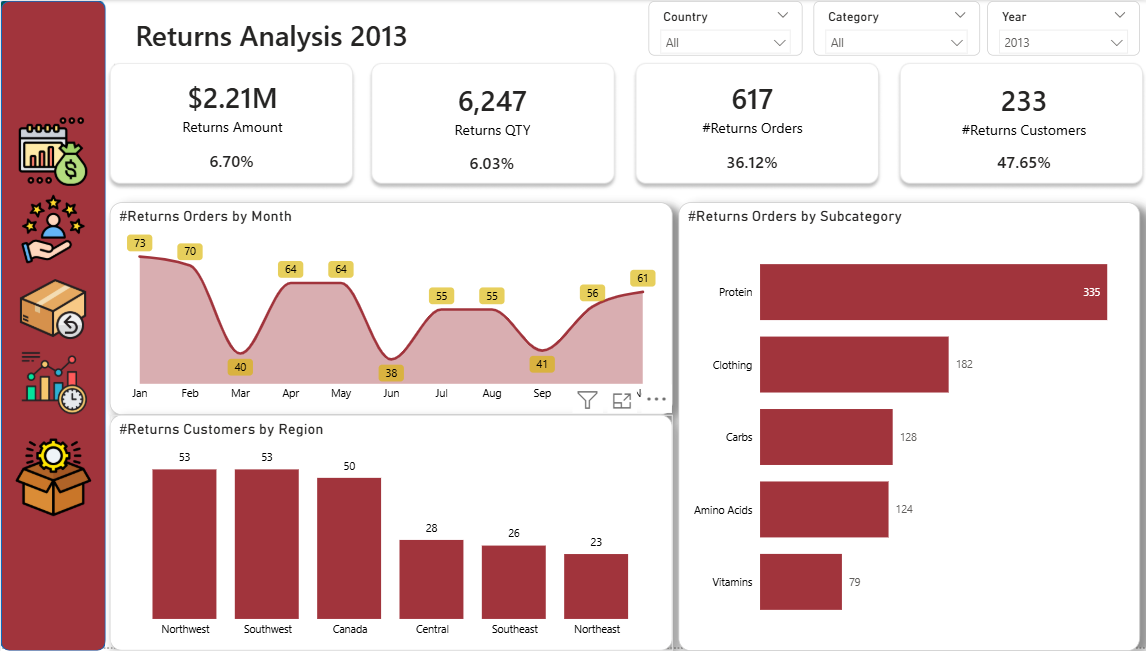

Layout of this report page (visuals, bound fields, positions):
{"tool":"powerbi","page":{"name":"Returns Analysis","canvas":[1310,743],"ordinal":2},"visuals":[{"type":"cardVisual","fields":{"Data":["#Measures.Returns Amount"]},"box":[129.4,68.7,269.8,103.5],"z":0},{"type":"cardVisual","fields":{"Data":["#Measures.Returns QTY"]},"box":[425.1,75.7,272.8,96.6],"z":1000},{"type":"cardVisual","fields":{"Data":["#Measures.#Returns Orders"]},"box":[723.7,71.7,269.8,100.5],"z":2000},{"type":"cardVisual","fields":{"Data":["#Measures.#Returns Customers"]},"box":[1037.2,75.7,264.8,96.6],"z":3000},{"type":"areaChart","title":"#Returns Orders by Month ","fields":{"Category":["Date Table.Month Name"],"Y":["#Measures.#Returns Orders"]},"box":[124.4,229.9,643.1,242.9],"z":4000},{"type":"clusteredColumnChart","fields":{"Y":["#Measures.#Returns Customers"],"Category":["Customers.Region"]},"box":[124.4,472.8,643.1,269.8],"z":5000},{"type":"clusteredBarChart","title":"#Returns Orders by Subcategory","fields":{"Category":["Product.CategoryName"],"Y":["#Measures.#Returns Orders"]},"box":[774.5,229.9,527.6,512.7],"z":6000},{"type":"shape","box":[0,0,119.5,742.6],"z":7000},{"type":"slicer","fields":{"Values":["Date Table.Year"]},"box":[1127.8,0,174.2,62.7],"z":8000},{"type":"cardVisual","fields":{"Data":["#Measures.%returns"]},"box":[186.1,154.3,156.3,54.7],"z":9000},{"type":"cardVisual","fields":{"Data":["#Measures.%returns returns customers"]},"box":[1064.1,154.3,210,57.7],"z":10000},{"type":"cardVisual","fields":{"Data":["#Measures.%Returns Qty"]},"box":[486.8,155.3,148.3,54.7],"z":11000},{"type":"cardVisual","fields":{"Data":["#Measures.%returns orders"]},"box":[739.6,155.3,237.9,53.8],"z":12000},{"type":"slicer","fields":{"Values":["Product.CategoryName"]},"box":[928.7,0,190.1,62.7],"z":13000},{"type":"slicer","fields":{"Values":["Customers.CountryName"]},"box":[739.6,0,176.2,62.7],"z":14000},{"type":"cardVisual","fields":{"Data":["#Measures.returns title"]},"box":[124.4,0,403.2,75.7],"z":15000},{"type":"image","box":[4.5,500,110.9,89.1],"z":16000},{"type":"image","box":[4.5,132.7,110.9,78.2],"z":17000},{"type":"image","box":[4.5,221.8,110.9,78.2],"z":18000},{"type":"image","box":[4.5,312.7,110.9,78.2],"z":19000},{"type":"image","box":[0,397.3,120,79.1],"z":20000}]}

Visuals, with their boxes in screenshot pixels (x1, y1, x2, y2), scaled from the page's 1310x743 canvas onto the 1146x651 screenshot:
cardVisual - #Measures.Returns Amount: x1=113 y1=60 x2=349 y2=151
cardVisual - #Measures.Returns QTY: x1=372 y1=66 x2=611 y2=151
cardVisual - #Measures.#Returns Orders: x1=633 y1=63 x2=869 y2=151
cardVisual - #Measures.#Returns Customers: x1=907 y1=66 x2=1139 y2=151
"#Returns Orders by Month " areaChart: x1=109 y1=201 x2=671 y2=414
clusteredColumnChart - #Measures.#Returns Customers x Customers.Region: x1=109 y1=414 x2=671 y2=650
"#Returns Orders by Subcategory" clusteredBarChart: x1=678 y1=201 x2=1139 y2=650
shape: x1=0 y1=0 x2=105 y2=650
slicer - Date Table.Year: x1=987 y1=0 x2=1139 y2=55
cardVisual - #Measures.%returns: x1=163 y1=135 x2=300 y2=183
cardVisual - #Measures.%returns returns customers: x1=931 y1=135 x2=1115 y2=186
cardVisual - #Measures.%Returns Qty: x1=426 y1=136 x2=556 y2=184
cardVisual - #Measures.%returns orders: x1=647 y1=136 x2=855 y2=183
slicer - Product.CategoryName: x1=812 y1=0 x2=979 y2=55
slicer - Customers.CountryName: x1=647 y1=0 x2=801 y2=55
cardVisual - #Measures.returns title: x1=109 y1=0 x2=462 y2=66
image: x1=4 y1=438 x2=101 y2=516
image: x1=4 y1=116 x2=101 y2=185
image: x1=4 y1=194 x2=101 y2=263
image: x1=4 y1=274 x2=101 y2=342
image: x1=0 y1=348 x2=105 y2=417
